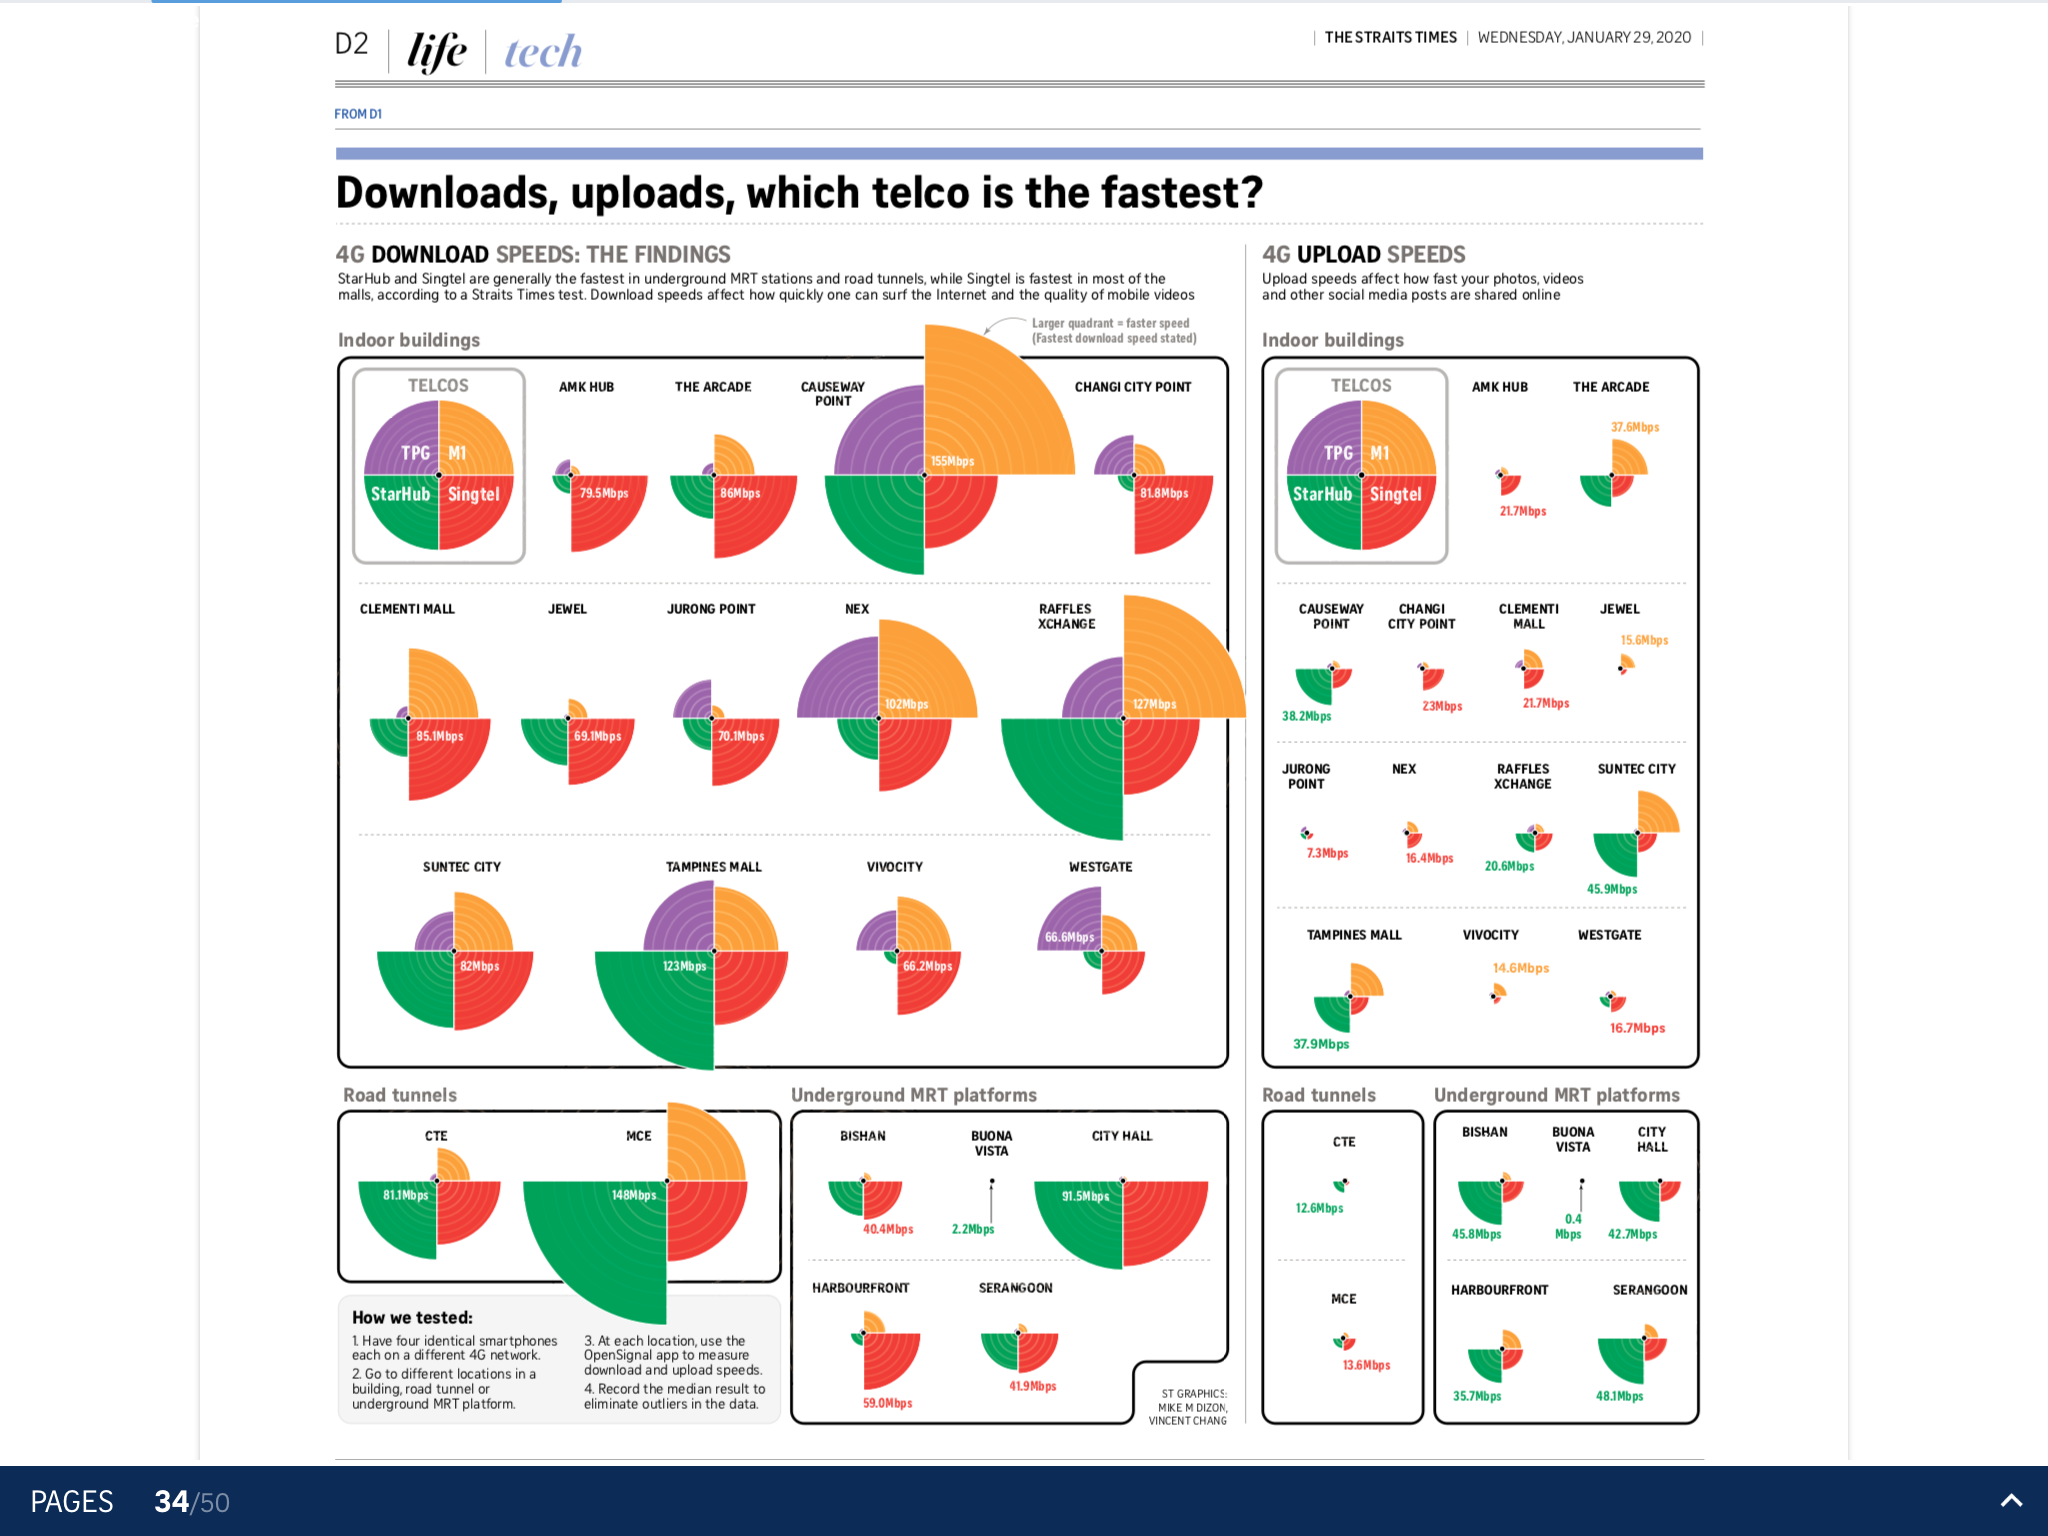Headline: (335, 168, 1269, 219)
Illustration: (1145, 1388, 1227, 1430)
Image: (329, 311, 1237, 1434), (1255, 328, 1708, 1434)
Text: (332, 237, 1205, 311), (345, 1305, 772, 1413), (1259, 239, 1587, 307)
